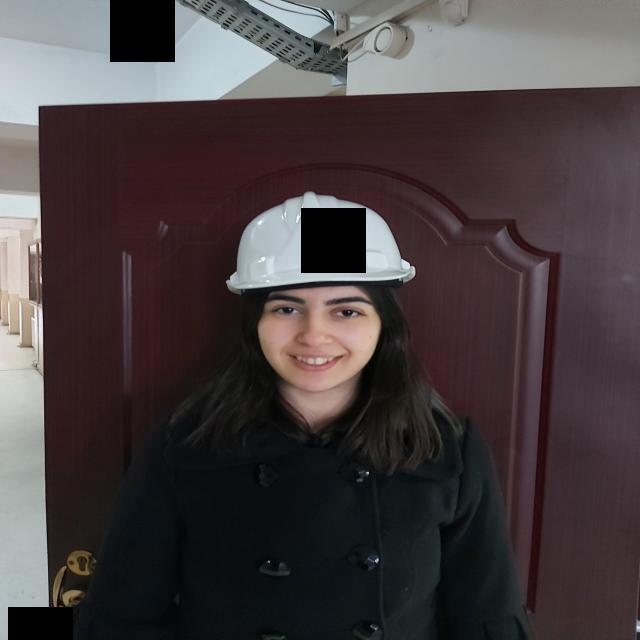white helmet: (206, 181, 420, 300)
